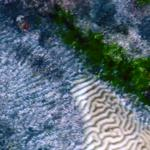dead: (3, 3, 145, 147)
